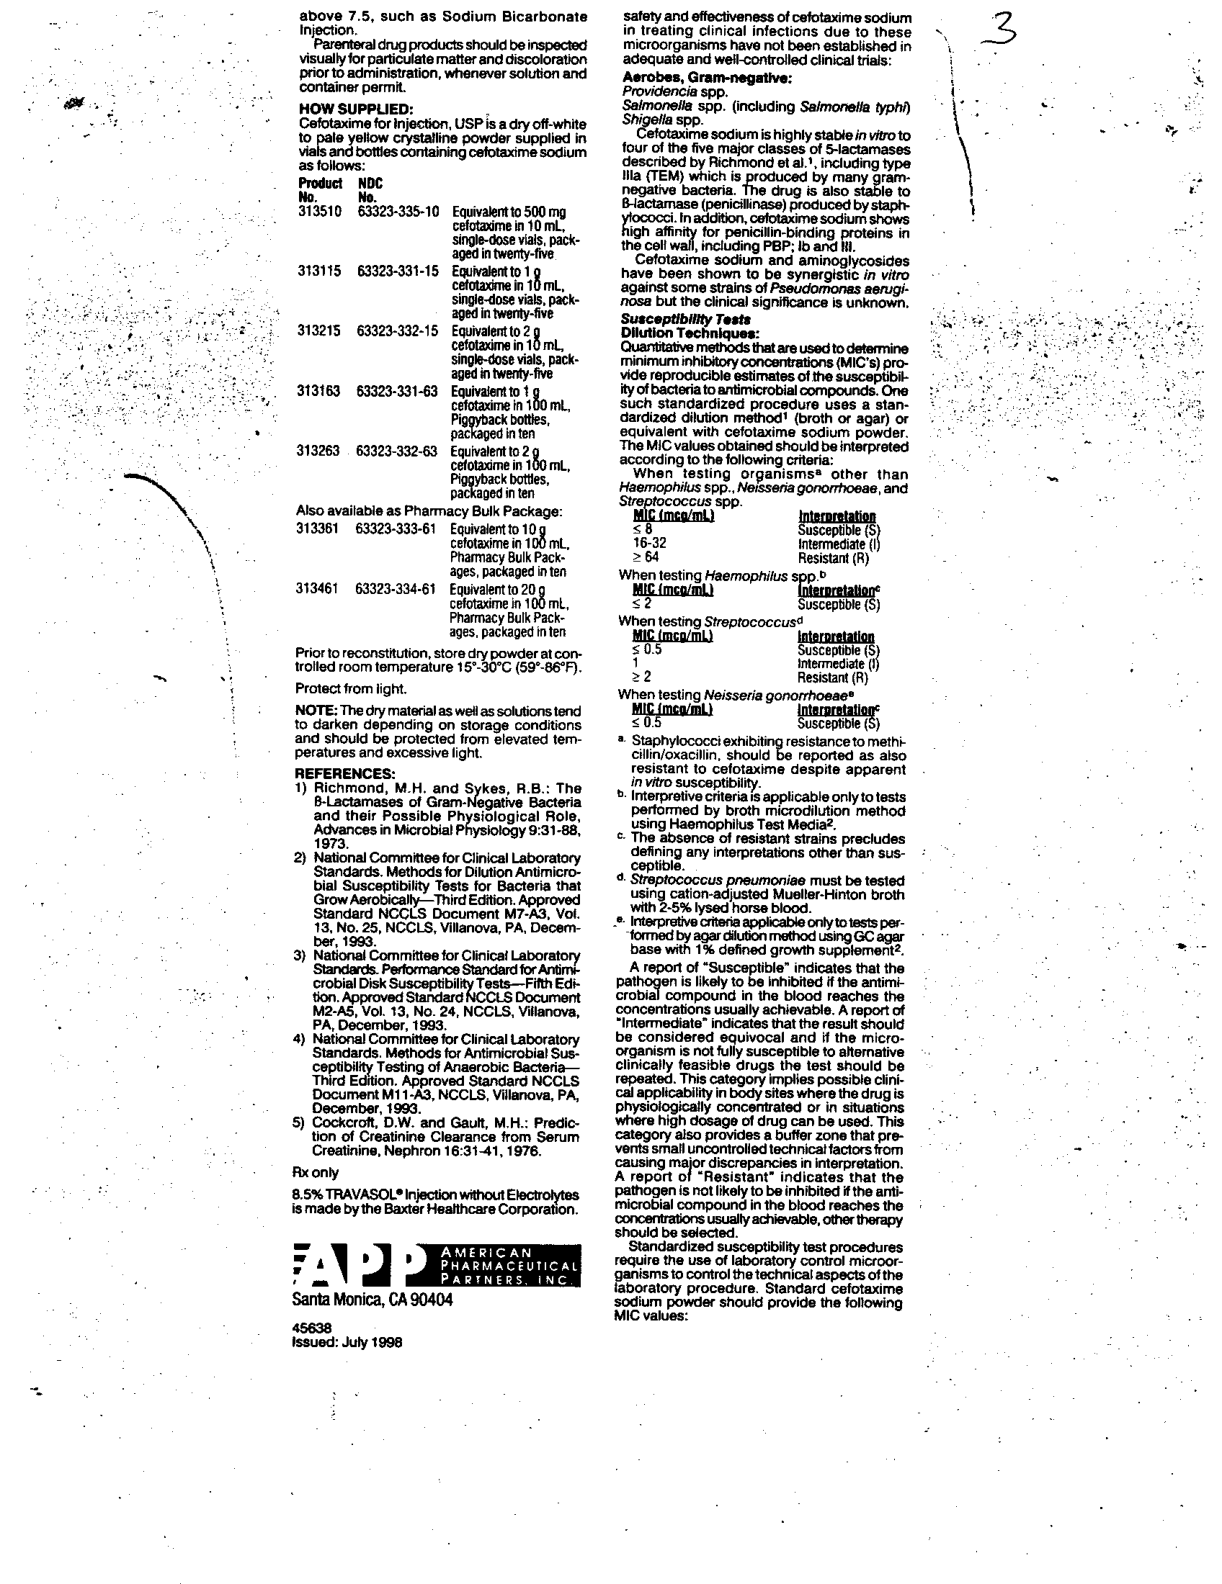nolines: (289, 176, 581, 643), (616, 510, 884, 733)
